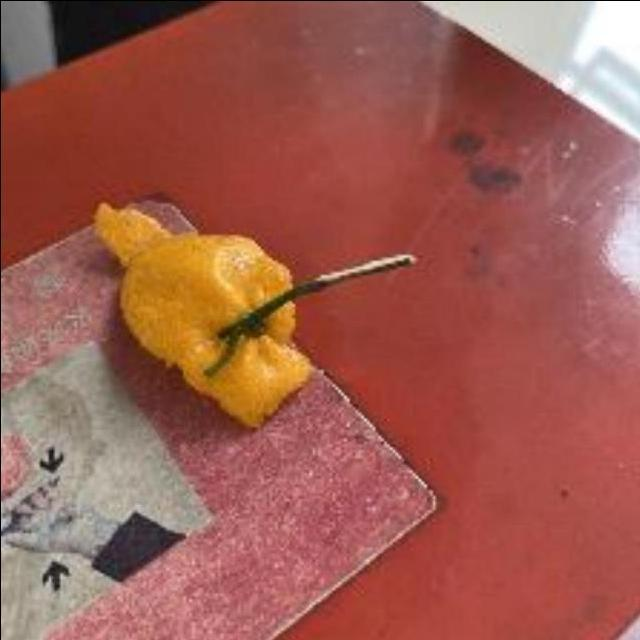orange peel: (89, 190, 316, 430)
